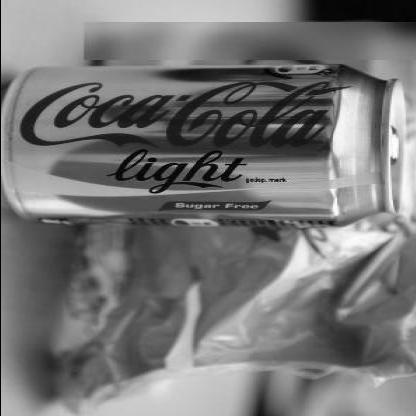alumunium_can: (0, 64, 405, 228)
